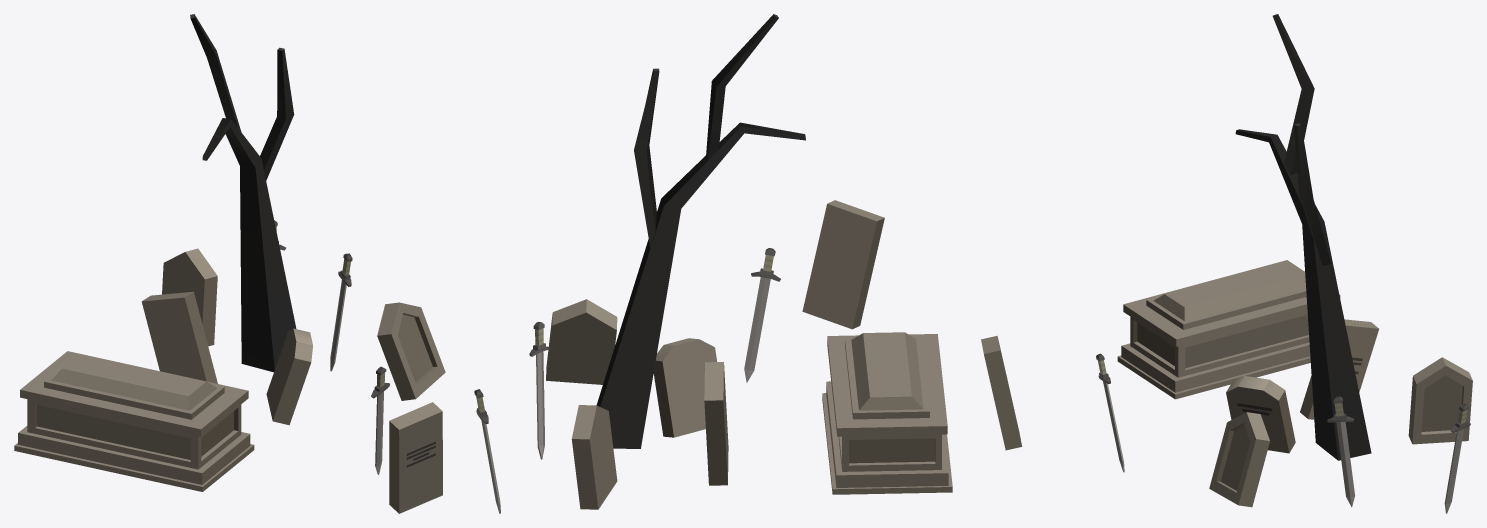
The model's file is LargeMore_SF_Prop_Undead_Graves_03.fbx.
3 views of the same model, side by side, from view 1: azimuth 30°, elevation 25°; view 2: azimuth 150°, elevation 25°; view 3: azimuth 270°, elevation 25° (orthographic). The views are drawn at different scales.
Parts seen in each view (by area): view 1: SF_Prop_Undead_Graves_03; view 2: SF_Prop_Undead_Graves_03; view 3: SF_Prop_Undead_Graves_03.
Boxes of the visible parts, box(x1,y1,x2,y2) form: SF_Prop_Undead_Graves_03: box(14, 14, 445, 513); SF_Prop_Undead_Graves_03: box(474, 14, 952, 513); SF_Prop_Undead_Graves_03: box(981, 14, 1472, 513).
Size of the model in its own units: 642 by 668 by 706.
